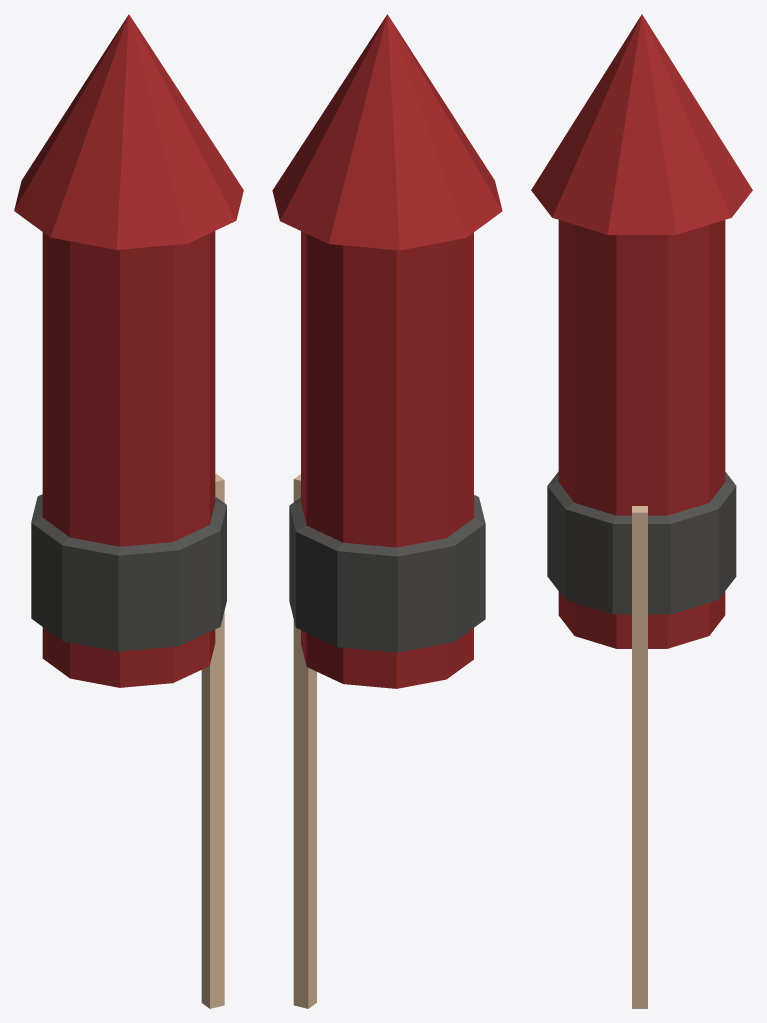
The model's file is Prop_Firework.fbx.
3 views of the same model, side by side, from view 1: azimuth 30°, elevation 25°; view 2: azimuth 150°, elevation 25°; view 3: azimuth 270°, elevation 25° (orthographic). The views are drawn at different scales.
Visible parts, largest first — view 1: Prop_Firework, Prop_FireworkStick; view 2: Prop_Firework, Prop_FireworkStick; view 3: Prop_Firework, Prop_FireworkStick.
Part boxes in pixels (bbox=[...]): Prop_Firework: bbox=[14, 14, 243, 687]; Prop_FireworkStick: bbox=[201, 474, 224, 1008]; Prop_Firework: bbox=[272, 14, 502, 688]; Prop_FireworkStick: bbox=[293, 474, 316, 1008]; Prop_Firework: bbox=[531, 14, 752, 648]; Prop_FireworkStick: bbox=[632, 506, 647, 1008].
Size of the model in its own units: 19.62 by 97.79 by 20.63.
